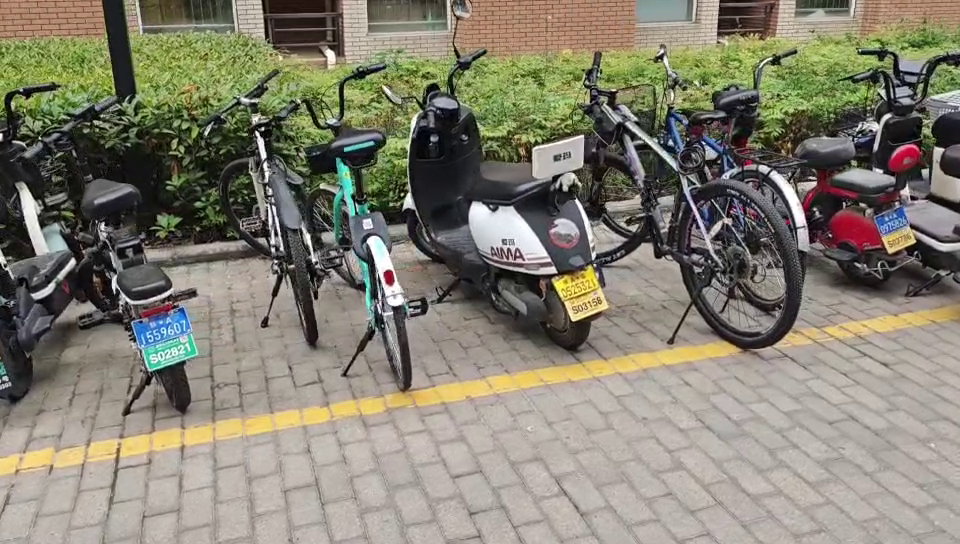others: (581, 60, 799, 353), (32, 104, 210, 420), (404, 64, 595, 347), (707, 47, 911, 291), (851, 49, 960, 299)
shared_bike_qingcong: (275, 74, 417, 399)
